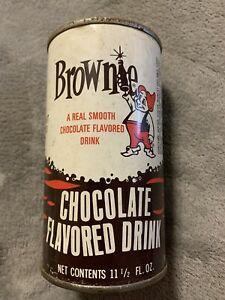can: (38, 15, 172, 294)
